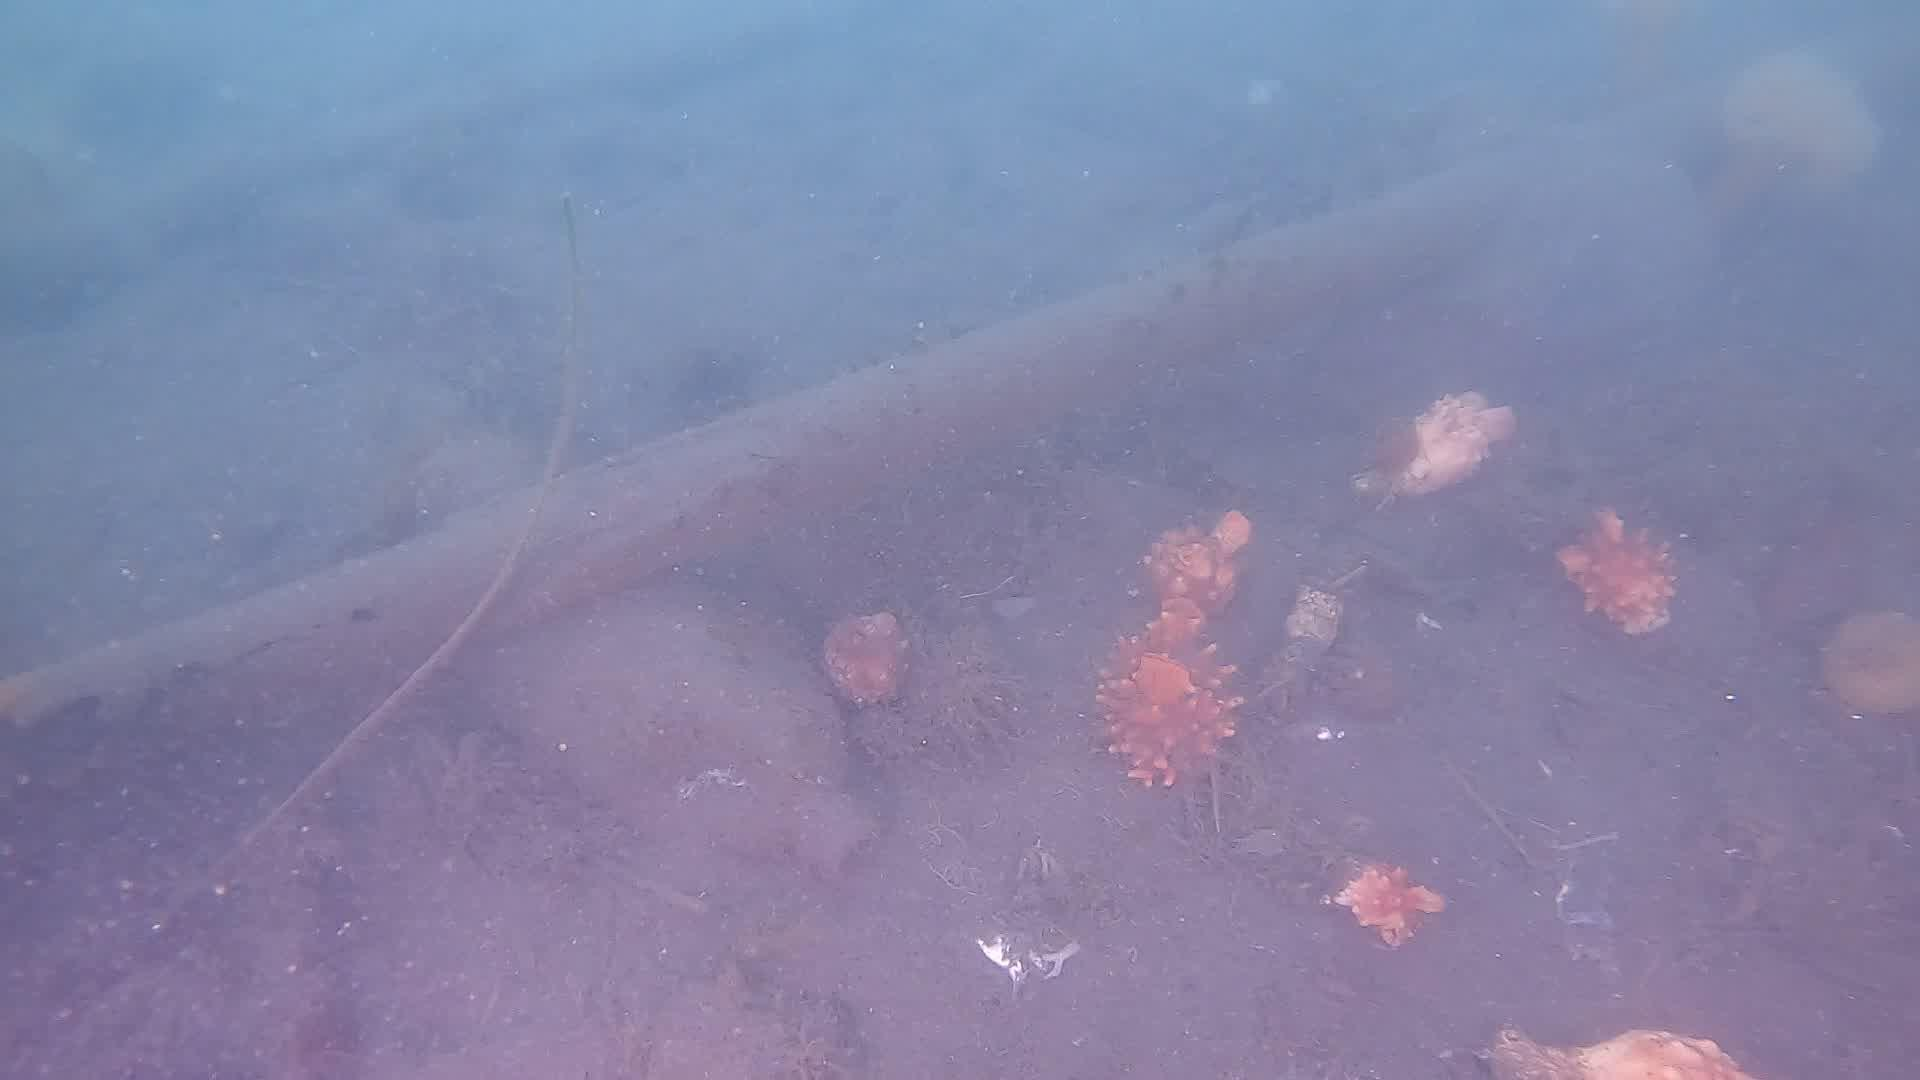wood: (0, 44, 1879, 811)
